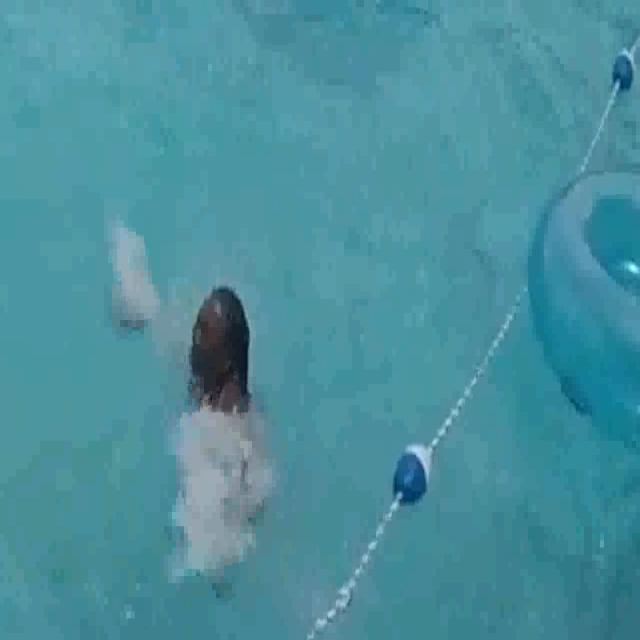drowning: (122, 219, 312, 562)
